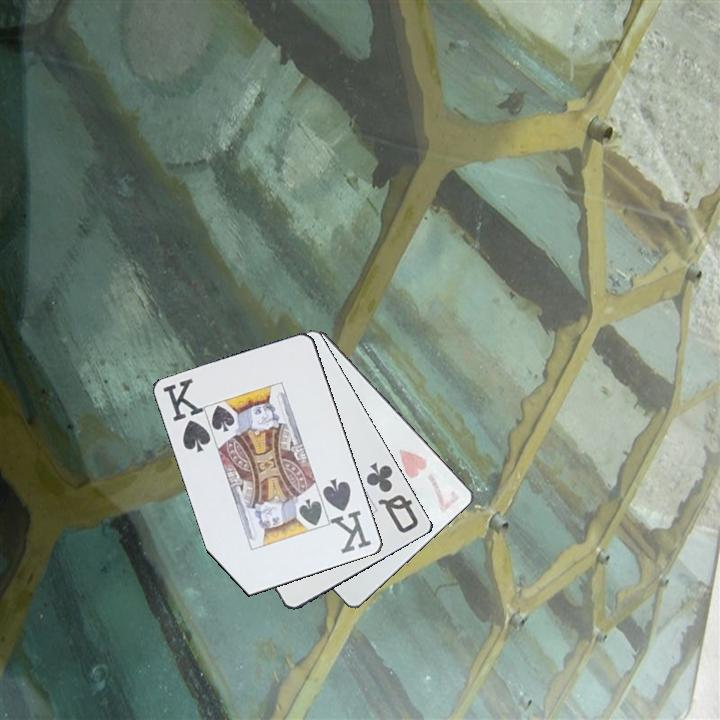7h: (396, 445, 463, 516)
Ks: (320, 475, 375, 556), (159, 375, 214, 456)
Qc: (363, 458, 422, 537)
